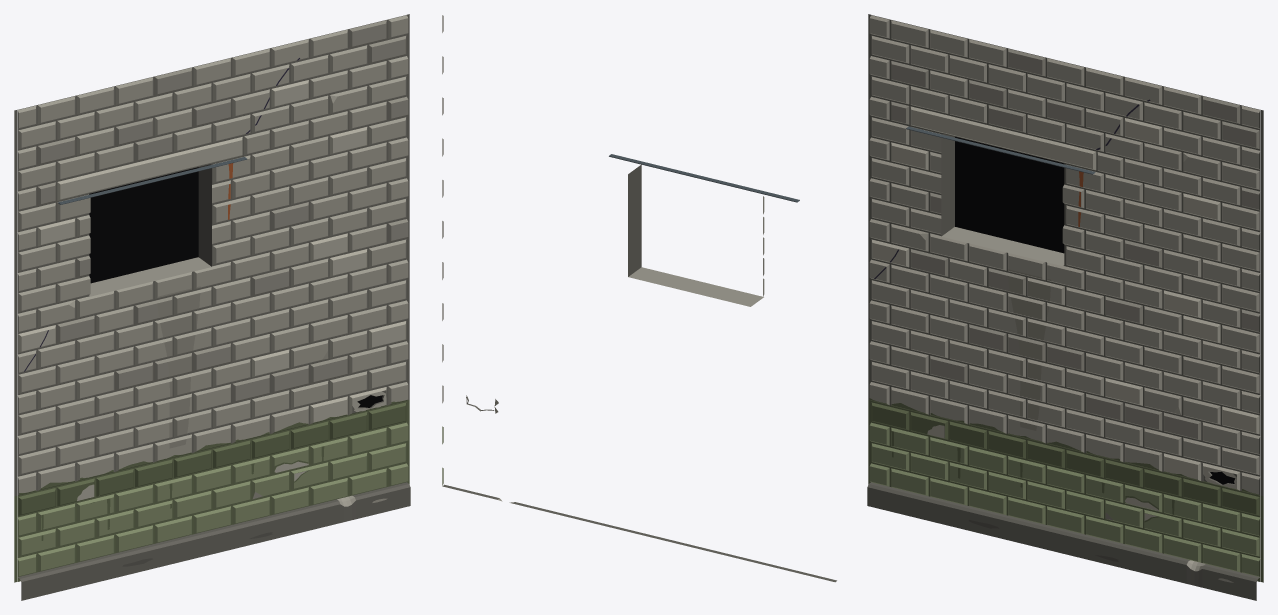
File: wall_panel_window.glb
The picture shows the model from 3 angles, left to right: view 1: azimuth 30°, elevation 25°; view 2: azimuth 150°, elevation 25°; view 3: azimuth 330°, elevation 25°; orthographic projection.
Visible parts, largest first — view 1: Wall; view 2: Wall; view 3: Wall.
Part boxes in pixels (x1,y1,x2,y2): Wall: (14,14,410,600); Wall: (442,15,836,582); Wall: (867,14,1263,600).
Size of the model in its own units: 5.08 by 5.99 by 0.36.
